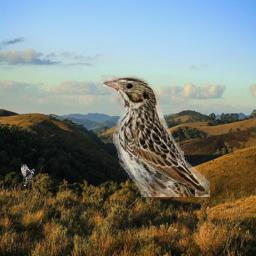Sparrow: (102, 75, 211, 197), (21, 164, 35, 186)
